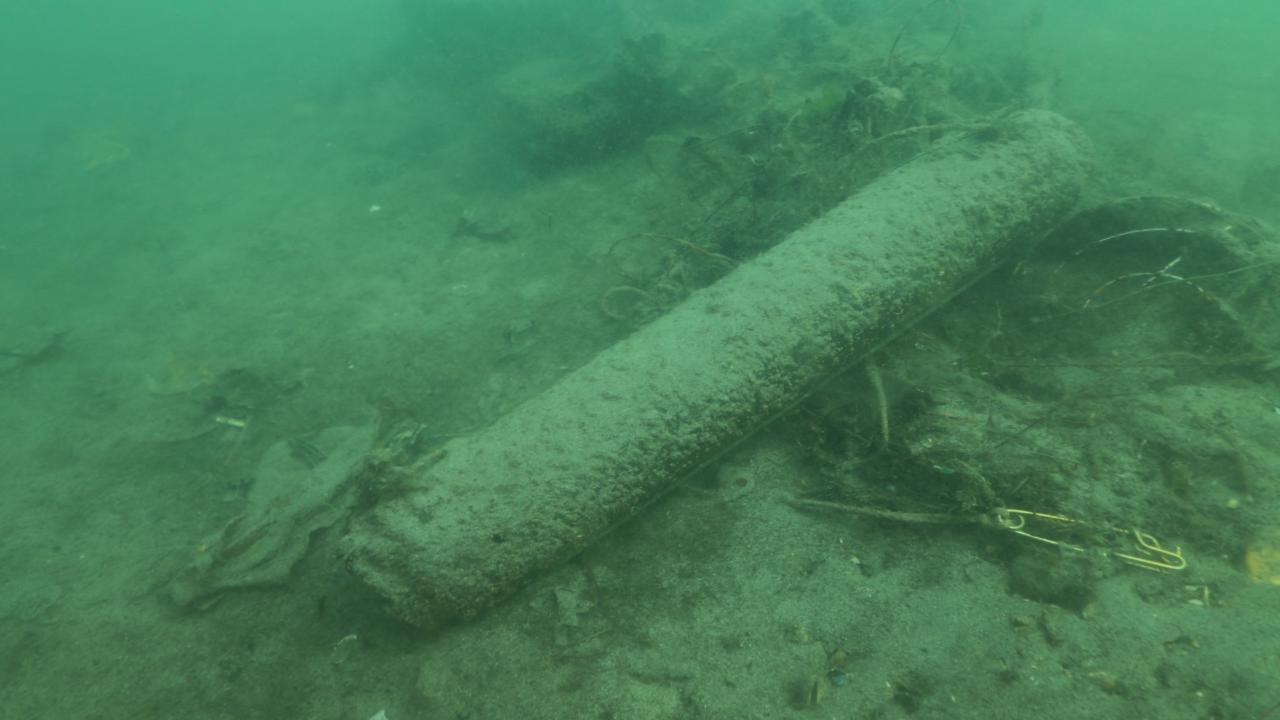eel fish trap: (339, 105, 1094, 644)
